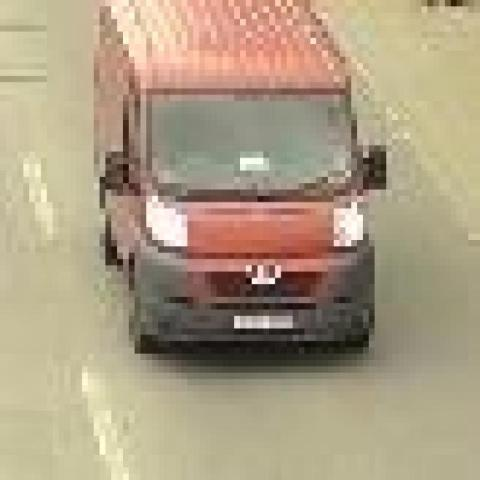van: (94, 0, 375, 354)
